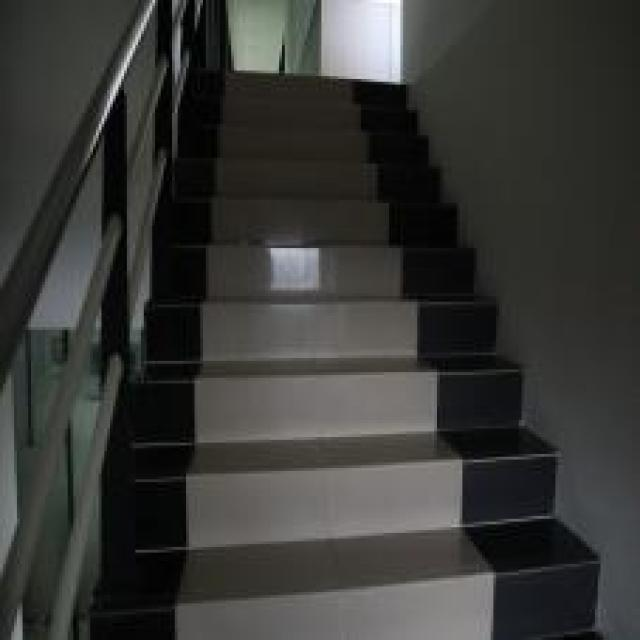upstair: (201, 72, 430, 638)
